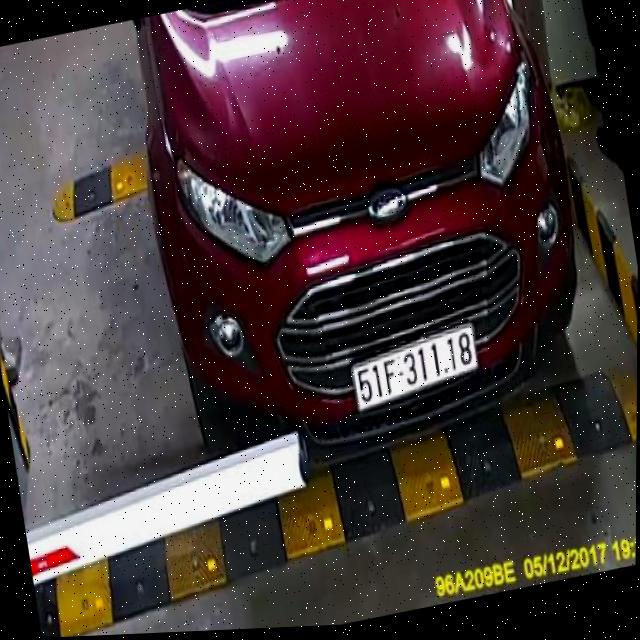car: (107, 0, 617, 497)
plate: (345, 319, 481, 413)
